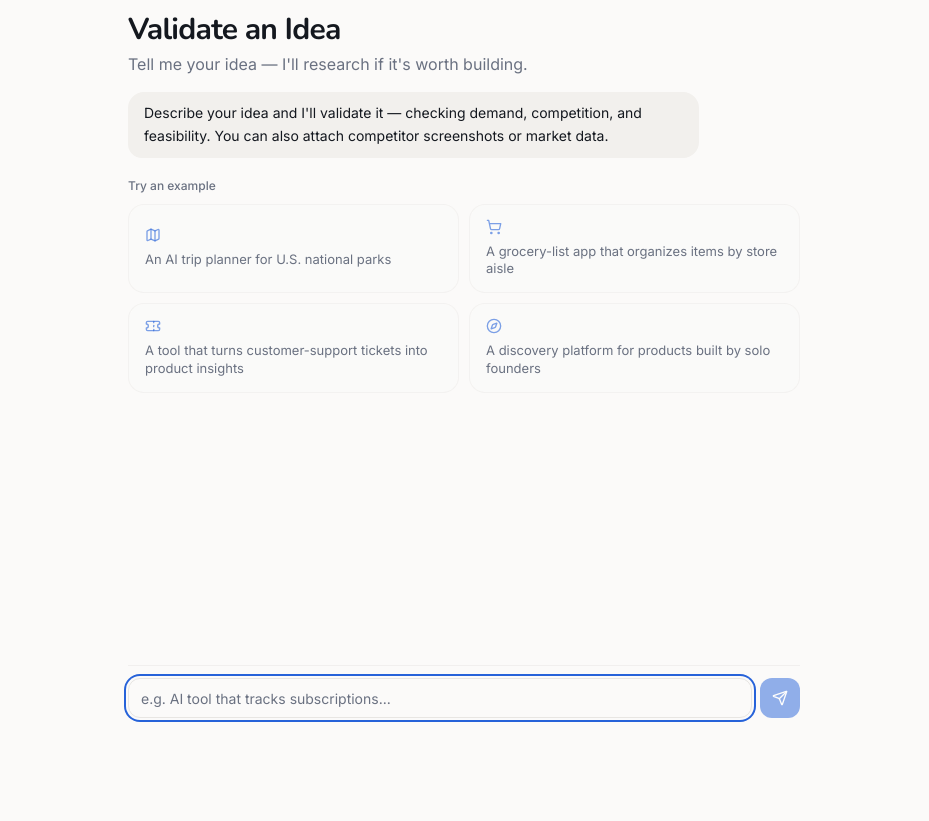
it: ValidateIdea NextStepCard › shows Pivot primary ask-to-refine label
Type "Park planner" into the field with placeholder "e.g. AI tool that tracks subscriptions..." at point(440, 698), box [128, 678, 752, 718]
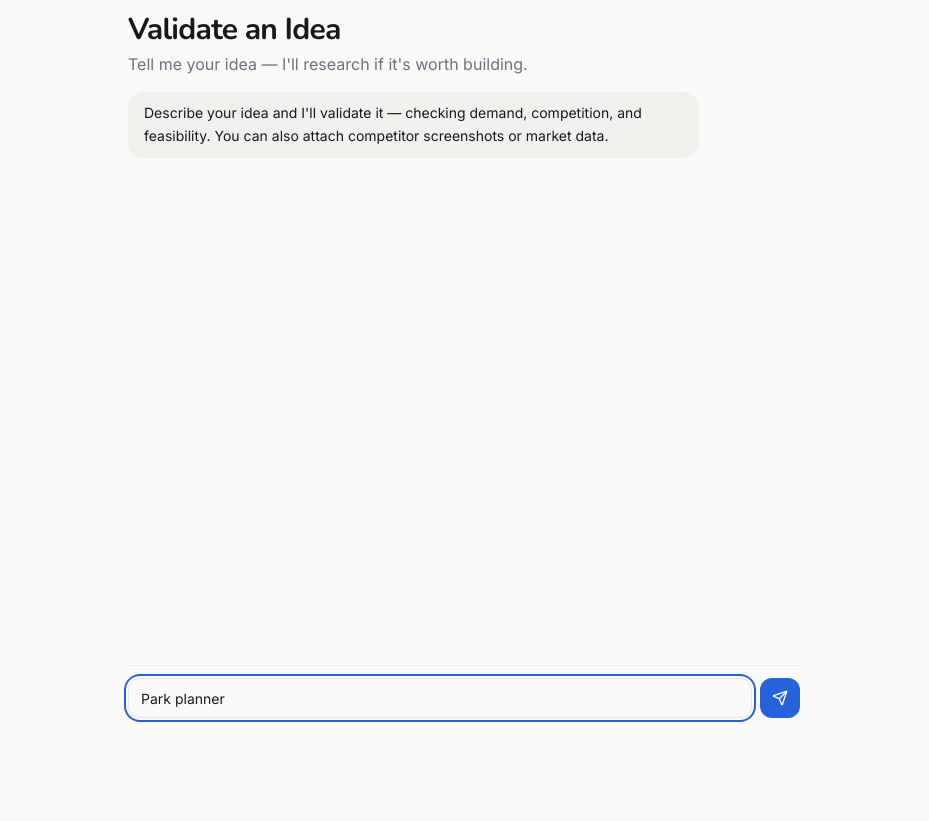
Press Enter
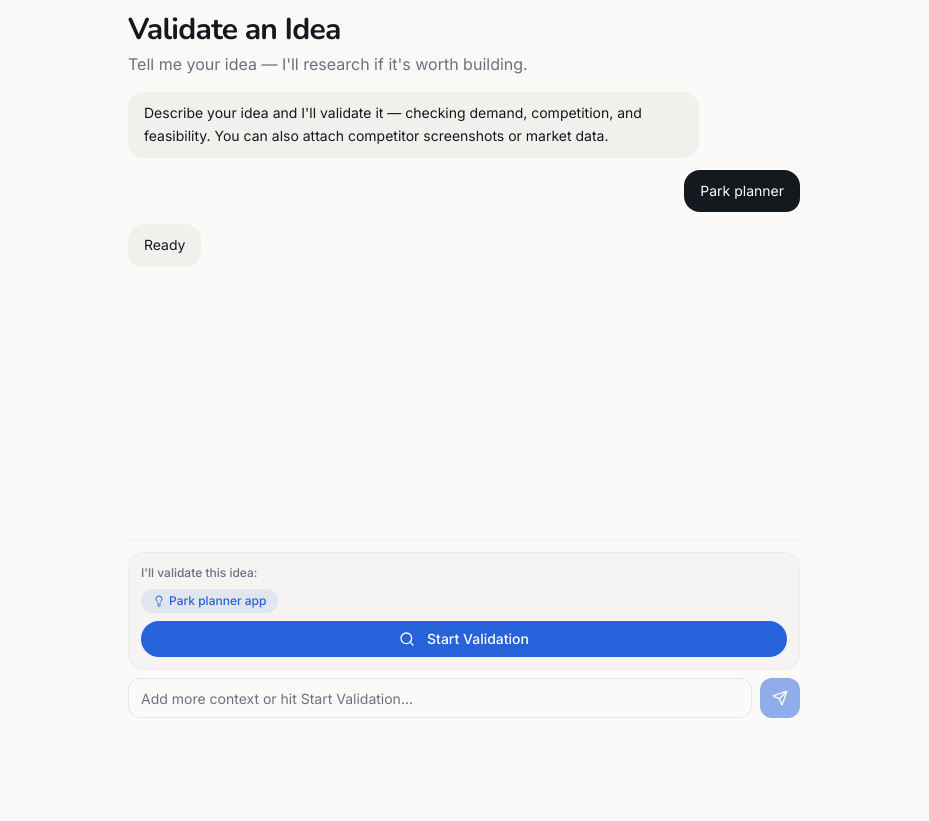
Expected: the button "Start Validation" is shown
Click the button "Start Validation" at point(464, 639), box [141, 621, 787, 657]
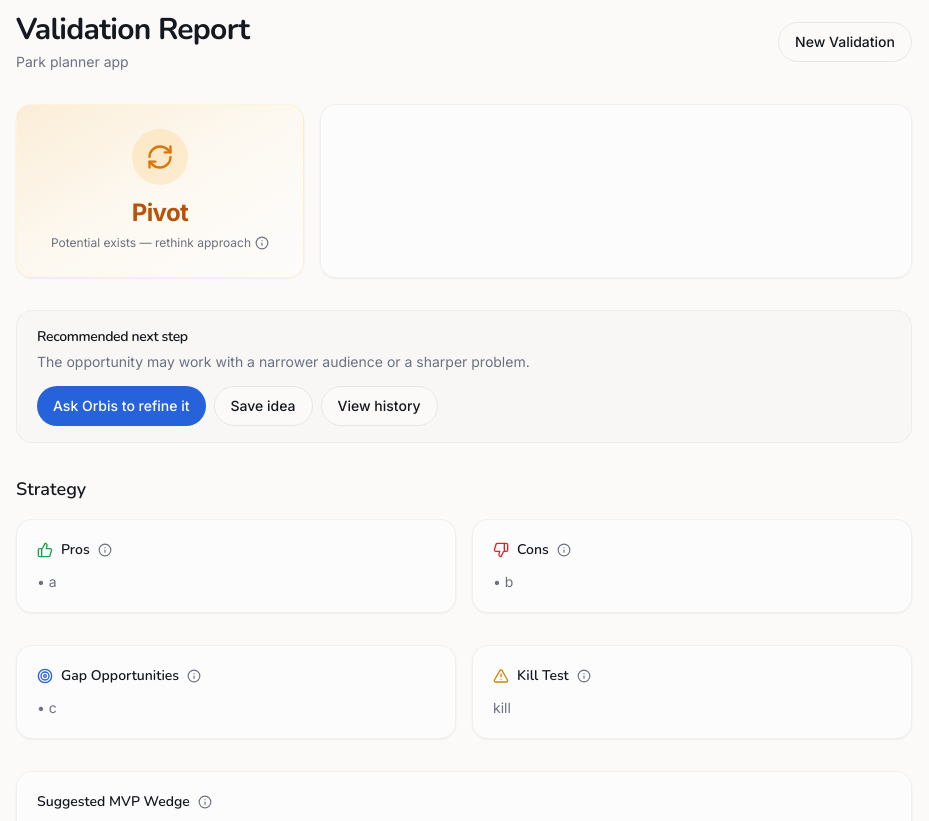
Expected: the heading "Recommended next step" is shown, [37, 327, 188, 346]
Expected: the button "Ask Orbis to refine it" is shown, [37, 386, 206, 426]
